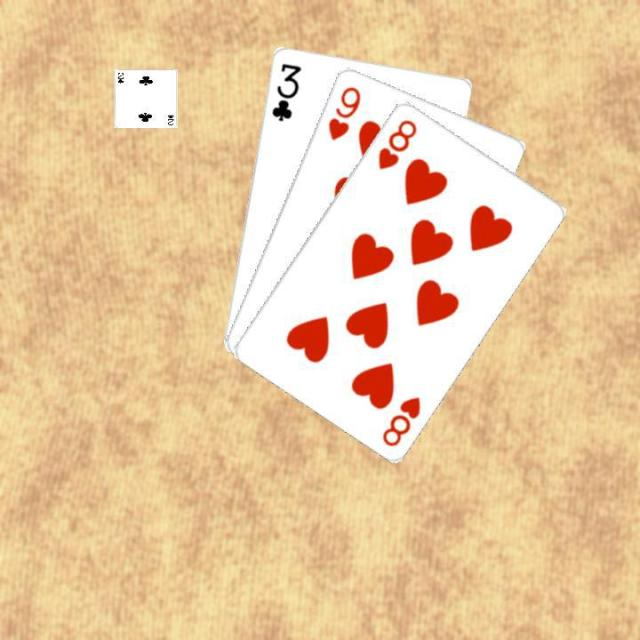3C: (267, 59, 303, 122)
8H: (373, 114, 419, 170), (378, 392, 422, 448)
9H: (323, 82, 362, 142)
